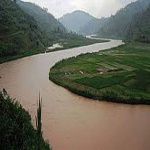River: (15, 34, 126, 150)
